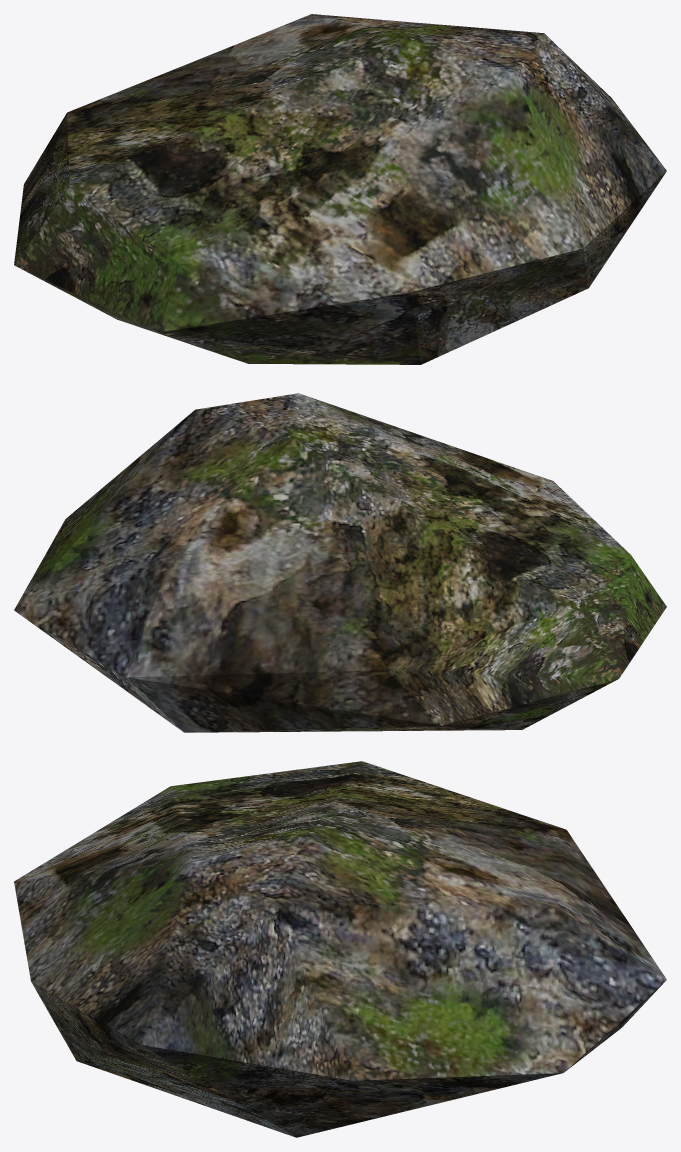
Rendered from rock_rough_mossy_coverstone_c.fbx.
3 views of the same model, one above another, from view 1: azimuth 30°, elevation 25°; view 2: azimuth 150°, elevation 25°; view 3: azimuth 270°, elevation 25° (orthographic). The views are drawn at different scales.
Visible parts, largest first — view 1: Cube; view 2: Cube; view 3: Cube.
Boxes of the visible parts, x1=… form: Cube: x1=14, y1=14, x2=666, y2=364; Cube: x1=14, y1=393, x2=666, y2=732; Cube: x1=14, y1=761, x2=666, y2=1137.
Bounding box in the file's own units: 35.77 × 13.74 × 32.1.
